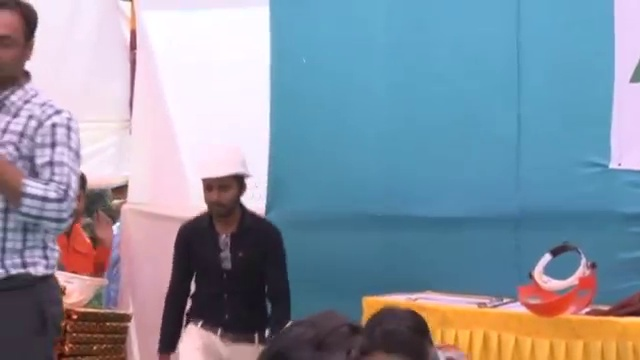helmet: (194, 140, 255, 186), (53, 272, 110, 308)
helmet_off: (341, 295, 444, 360), (0, 0, 39, 95), (68, 169, 92, 226)
helmet_on: (194, 143, 254, 216)
person: (1, 3, 90, 360), (153, 141, 290, 360), (56, 171, 115, 280)
